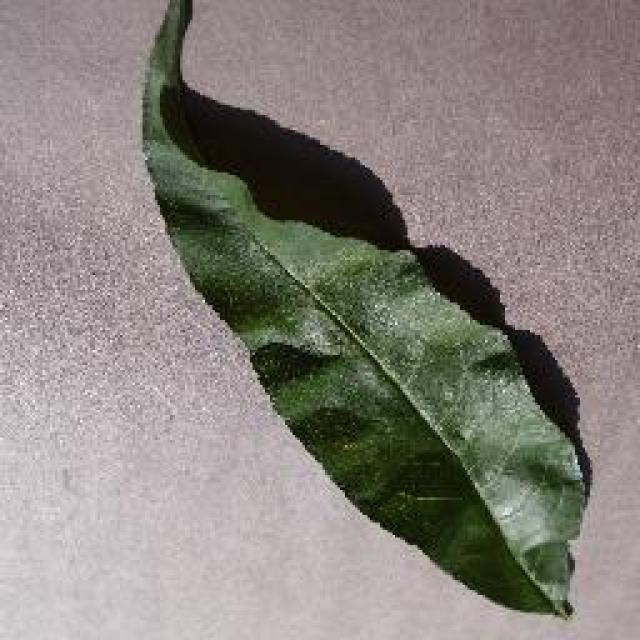Pea_healthy: (144, 98, 545, 530)
